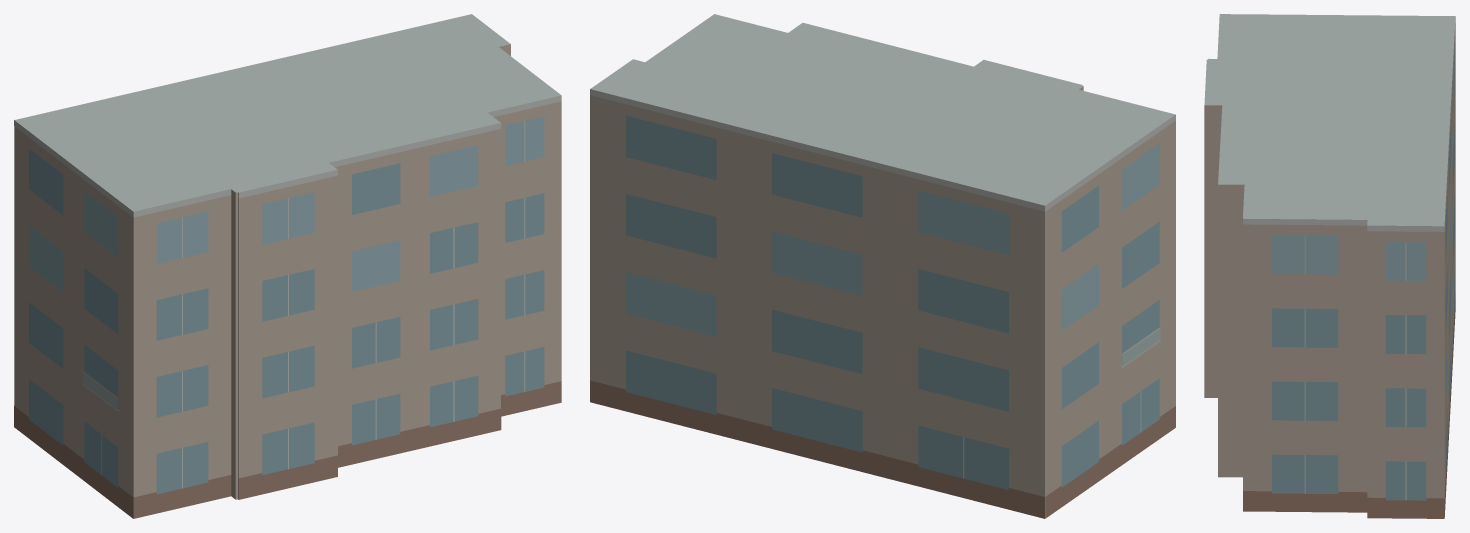
File: survey-upis-32912331.glb
3 views of the same model, side by side, from view 1: azimuth 30°, elevation 25°; view 2: azimuth 150°, elevation 25°; view 3: azimuth 270°, elevation 25° (orthographic). The views are drawn at different scales.
Parts seen in each view (by area): view 1: survey-upis-32912331.tmp; view 2: survey-upis-32912331.tmp; view 3: survey-upis-32912331.tmp.
Boxes of the visible parts, x1,y1,x2,y2 form: survey-upis-32912331.tmp: [14, 14, 561, 518]; survey-upis-32912331.tmp: [590, 14, 1175, 518]; survey-upis-32912331.tmp: [1204, 14, 1455, 518].
Size of the model in its own units: 19.77 by 12.7 by 9.89.
